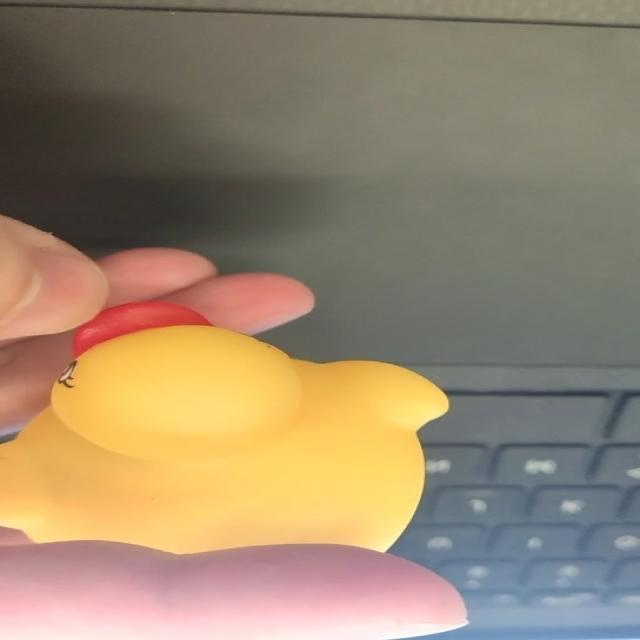rubber-duck: (0, 302, 446, 551)
